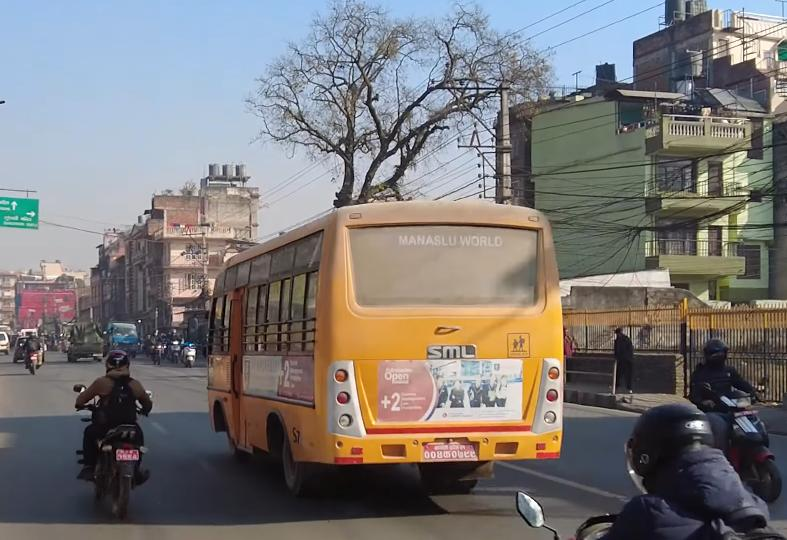bike: (72, 385, 158, 515)
school_bus: (196, 197, 569, 495)
